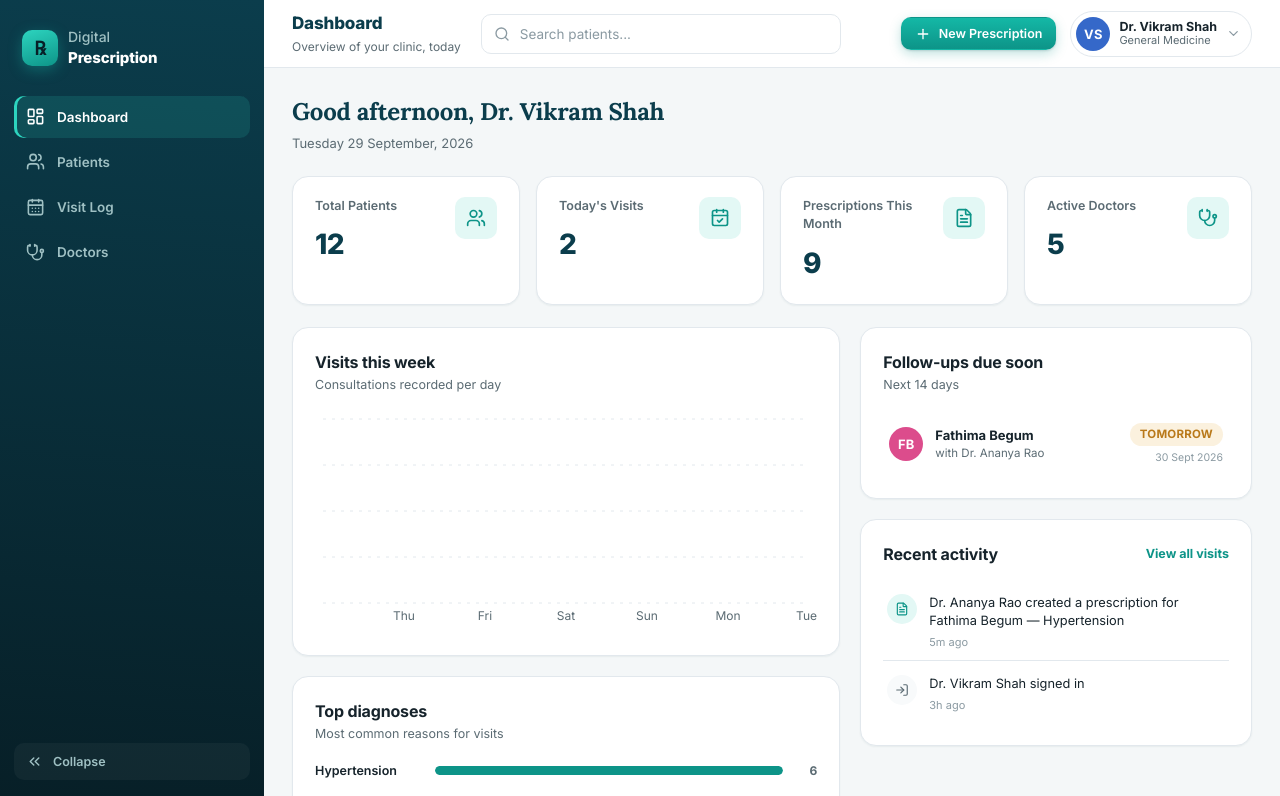
Scenario: AppShell › collapses the sidebar
Click the button with aria-label "Collapse sidebar" at (132, 762), box [14,743,250,780]
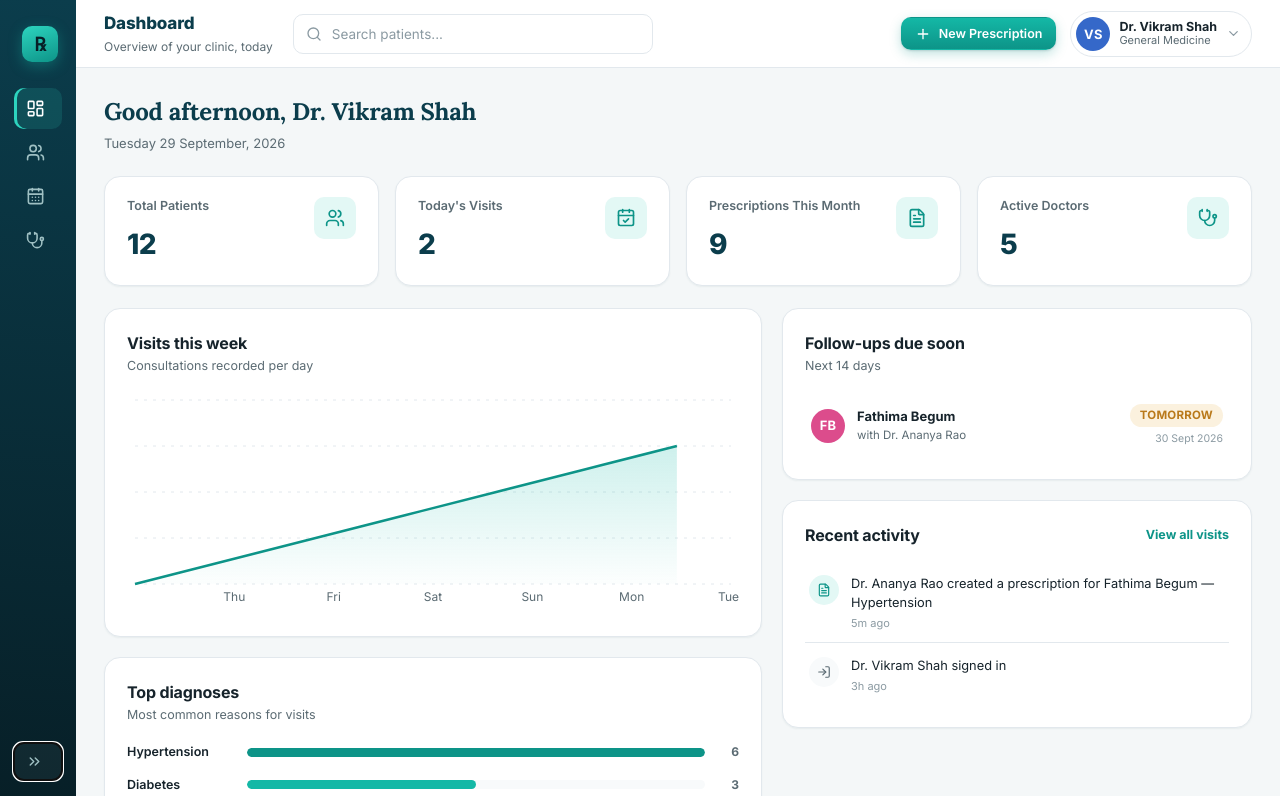
Expected: the link named "Patients" is shown, [26,143,45,162]
Expected: the button named "Expand sidebar" is shown, [14,743,62,780]
